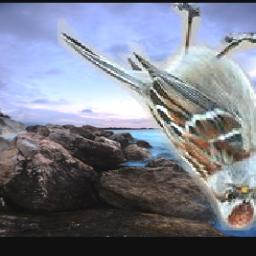Sparrow: (57, 3, 256, 230)
